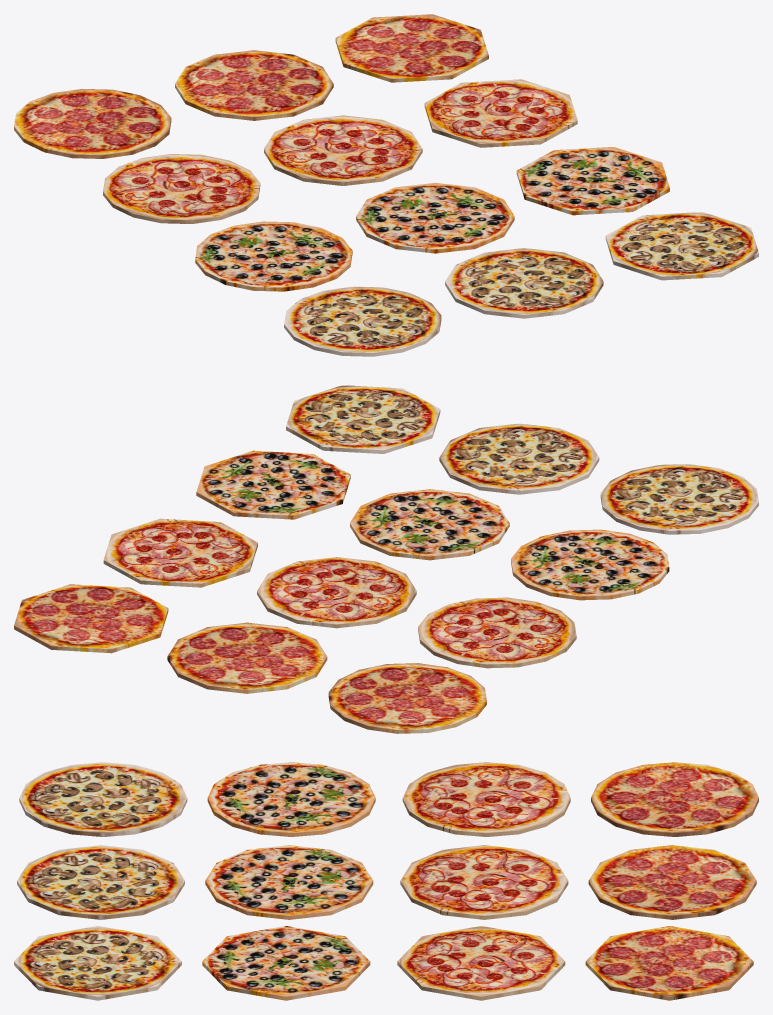
3 views of the same model, one above another, from view 1: azimuth 30°, elevation 25°; view 2: azimuth 150°, elevation 25°; view 3: azimuth 270°, elevation 25° (orthographic). The views are drawn at different scales.
Visible parts, largest first — view 1: pizza_pizza3MAT_01, pizza_pizza4MAT_01, pizza_pizza2MAT_01, pizza_pizza1MAT_01, pizza_pizza1MAT_02, pizza_pizza2MAT_02, pizza_pizza4MAT_02, pizza_pizza3MAT_02, pizza_pizza1MAT_03, pizza_pizza2MAT_03, pizza_pizza4MAT_03, pizza_pizza3MAT_03; view 2: pizza_pizza4MAT_01, pizza_pizza1MAT_01, pizza_pizza2MAT_01, pizza_pizza3MAT_01, pizza_pizza4MAT_02, pizza_pizza1MAT_02, pizza_pizza3MAT_02, pizza_pizza2MAT_02, pizza_pizza2MAT_03, pizza_pizza1MAT_03, pizza_pizza3MAT_03, pizza_pizza4MAT_03; view 3: pizza_pizza3MAT_01, pizza_pizza4MAT_01, pizza_pizza2MAT_01, pizza_pizza1MAT_01, pizza_pizza2MAT_02, pizza_pizza3MAT_02, pizza_pizza4MAT_02, pizza_pizza1MAT_02, pizza_pizza1MAT_03, pizza_pizza2MAT_03, pizza_pizza3MAT_03, pizza_pizza4MAT_03.
Part boxes in pixels (left/top/right/bottom): pizza_pizza3MAT_01: left=195, top=221, right=352, bottom=291; pizza_pizza4MAT_01: left=284, top=286, right=441, bottom=356; pizza_pizza2MAT_01: left=103, top=154, right=260, bottom=223; pizza_pizza1MAT_01: left=14, top=88, right=171, bottom=158; pizza_pizza1MAT_02: left=175, top=50, right=333, bottom=120; pizza_pizza2MAT_02: left=264, top=115, right=422, bottom=185; pizza_pizza4MAT_02: left=445, top=248, right=603, bottom=318; pizza_pizza3MAT_02: left=356, top=183, right=514, bottom=253; pizza_pizza1MAT_03: left=335, top=14, right=488, bottom=82; pizza_pizza2MAT_03: left=424, top=79, right=577, bottom=147; pizza_pizza4MAT_03: left=605, top=212, right=758, bottom=280; pizza_pizza3MAT_03: left=516, top=147, right=669, bottom=215; pizza_pizza4MAT_01: left=600, top=464, right=758, bottom=534; pizza_pizza1MAT_01: left=328, top=663, right=486, bottom=733; pizza_pizza2MAT_01: left=418, top=597, right=576, bottom=668; pizza_pizza3MAT_01: left=511, top=529, right=669, bottom=600; pizza_pizza4MAT_02: left=439, top=423, right=599, bottom=494; pizza_pizza1MAT_02: left=167, top=622, right=327, bottom=693; pizza_pizza3MAT_02: left=350, top=489, right=509, bottom=560; pizza_pizza2MAT_02: left=257, top=557, right=416, bottom=628; pizza_pizza2MAT_03: left=103, top=518, right=257, bottom=587; pizza_pizza1MAT_03: left=14, top=584, right=168, bottom=653; pizza_pizza3MAT_03: left=196, top=450, right=350, bottom=519; pizza_pizza4MAT_03: left=286, top=385, right=440, bottom=453; pizza_pizza3MAT_01: left=207, top=762, right=375, bottom=836; pizza_pizza4MAT_01: left=19, top=762, right=187, bottom=836; pizza_pizza2MAT_01: left=402, top=762, right=570, bottom=836; pizza_pizza1MAT_01: left=591, top=762, right=758, bottom=836; pizza_pizza2MAT_02: left=400, top=845, right=568, bottom=919; pizza_pizza3MAT_02: left=205, top=845, right=373, bottom=919; pizza_pizza4MAT_02: left=17, top=845, right=184, bottom=919; pizza_pizza1MAT_02: left=588, top=845, right=756, bottom=919; pizza_pizza1MAT_03: left=585, top=926, right=753, bottom=1000; pizza_pizza2MAT_03: left=397, top=926, right=565, bottom=1000; pizza_pizza3MAT_03: left=202, top=926, right=370, bottom=1000; pizza_pizza4MAT_03: left=14, top=926, right=181, bottom=1000.
Size of the model in its own units: 6.61 by 0.0519 by 8.87.
4 materials, 4 textured.
